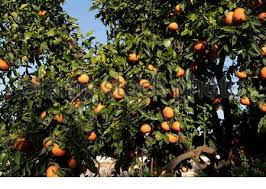orange: (108, 73, 126, 88), (98, 80, 113, 95), (112, 87, 125, 99), (76, 73, 90, 84)
